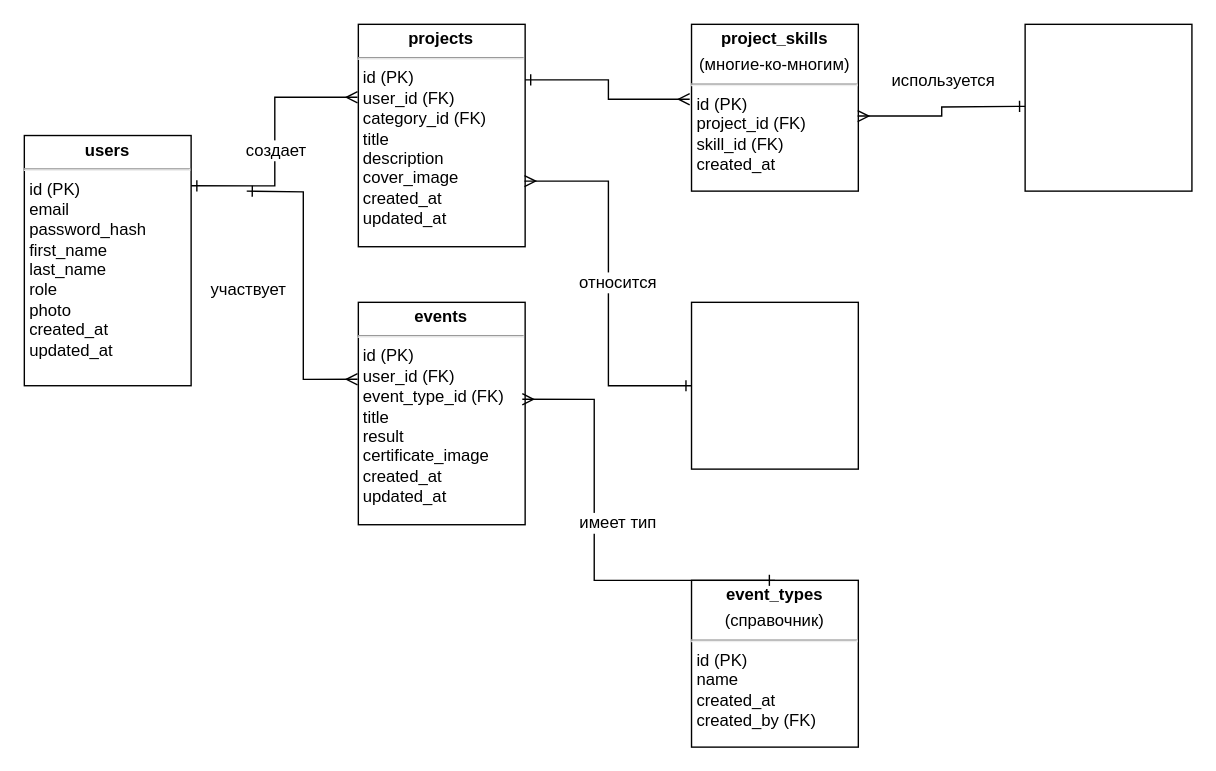
Some shapes in this 1216 by 771 pixel diagram are drawn without their labels. Here are the shapes that lost their labels. From the top down, the box of each, then its label:
(1024, 23, 1192, 191): skills (справочник) id (PK) name created_at created_by (FK)
(690, 301, 858, 469): categories (справочник) id (PK) name created_at created_by (FK)
